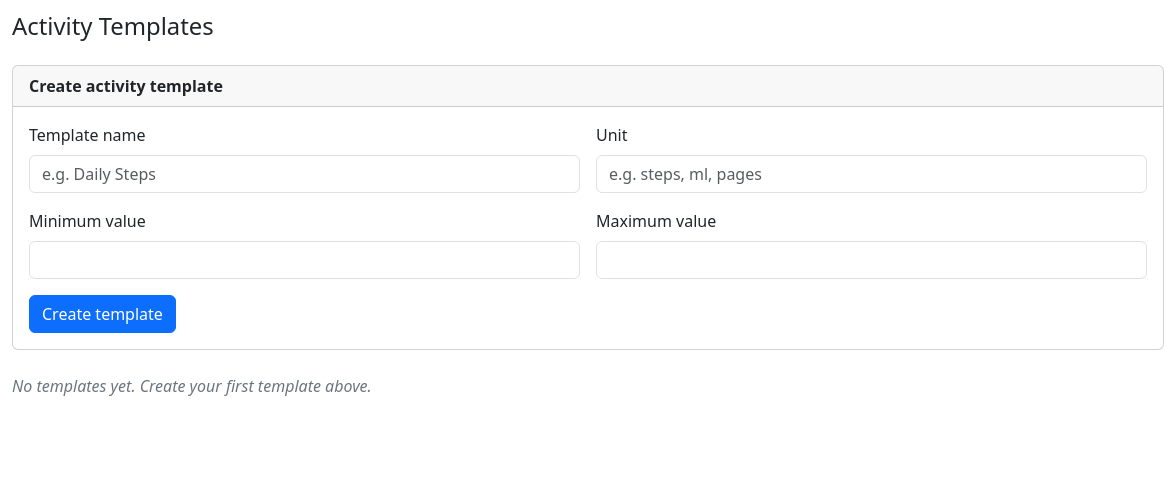
Test case: F-02 Activity Template UI › TEST-UI-03: Program Manager view › displays error message when minValue >= maxValue
The width and height of the screenshot is (1164, 503).
Expected: the text "No templates yet. Create your first template above." is shown, [12,375,372,397]
Type "Invalid Range" into the field labelled "Template name" at (304, 174), box [29,155,580,193]
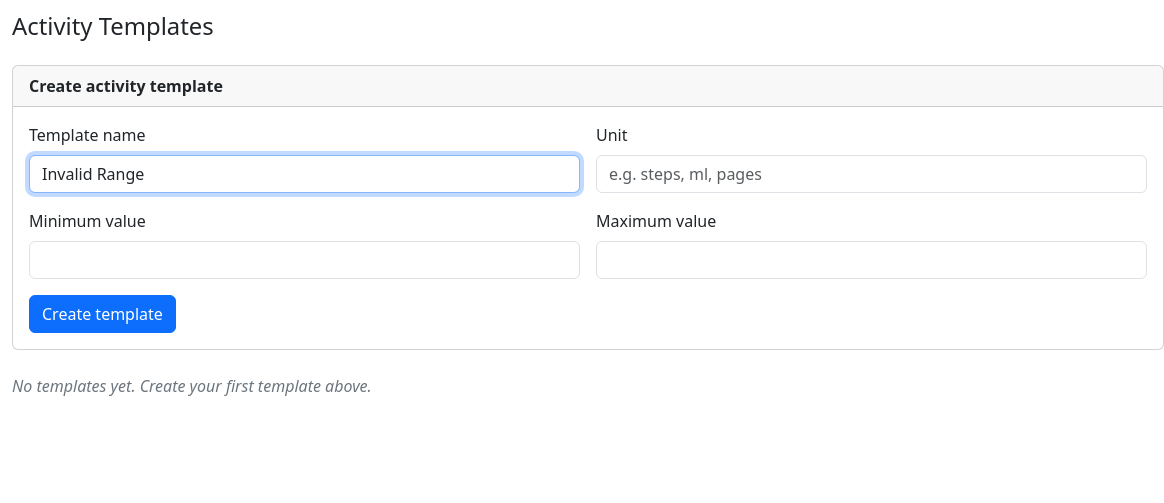
Type "count" into the field labelled "Unit" at (872, 174), box [596,155,1147,193]
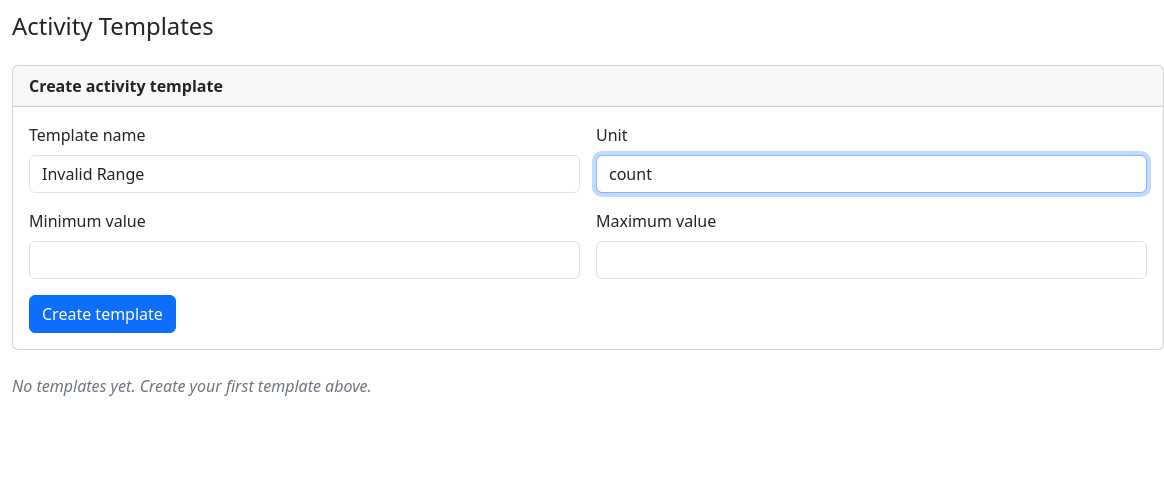
Type "100" into the number field labelled "Minimum value" at (304, 260), box [29,241,580,279]
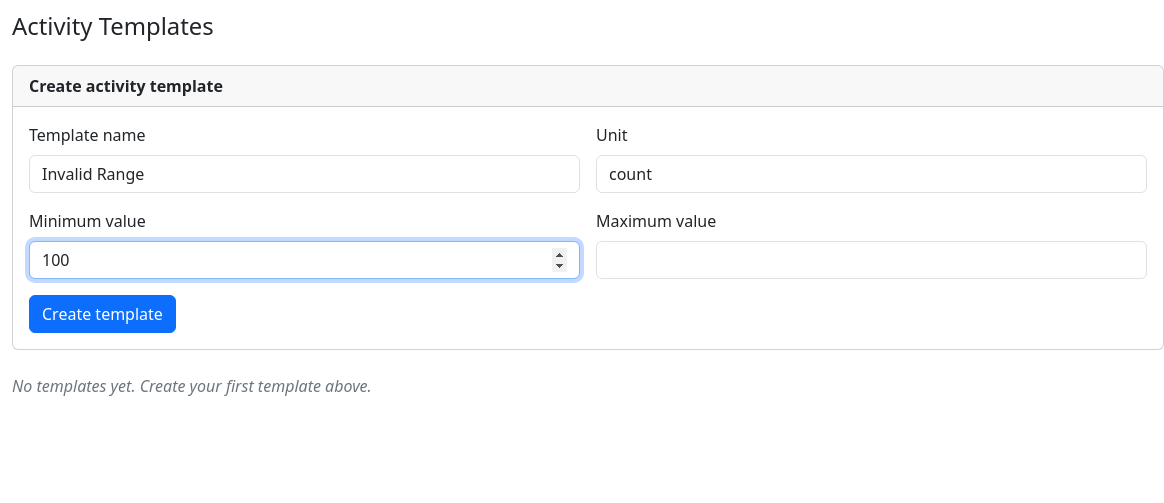
Type "50" into the number field labelled "Maximum value" at (872, 260), box [596,241,1147,279]
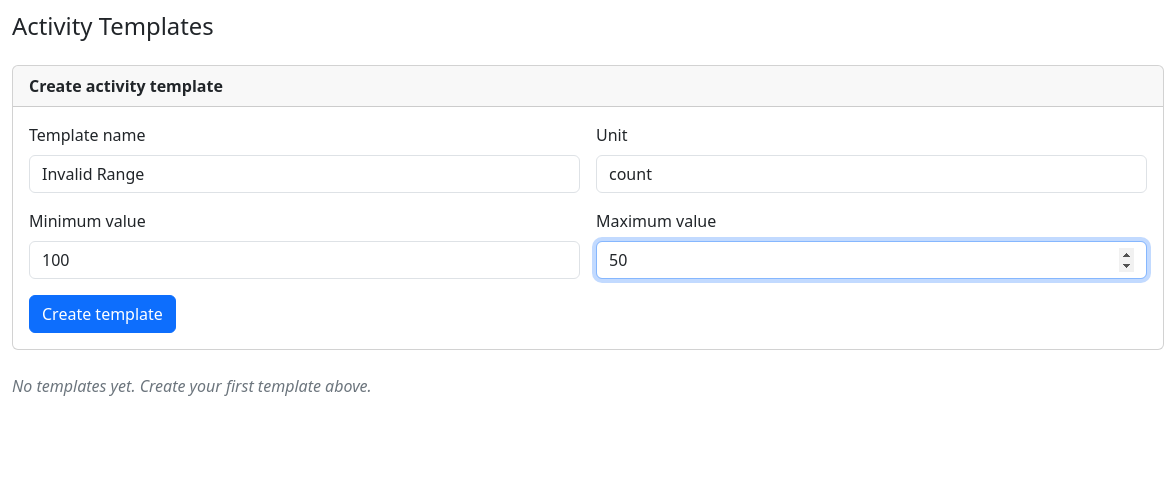
Click the button "Create template" at (102, 314), box [29,295,176,333]
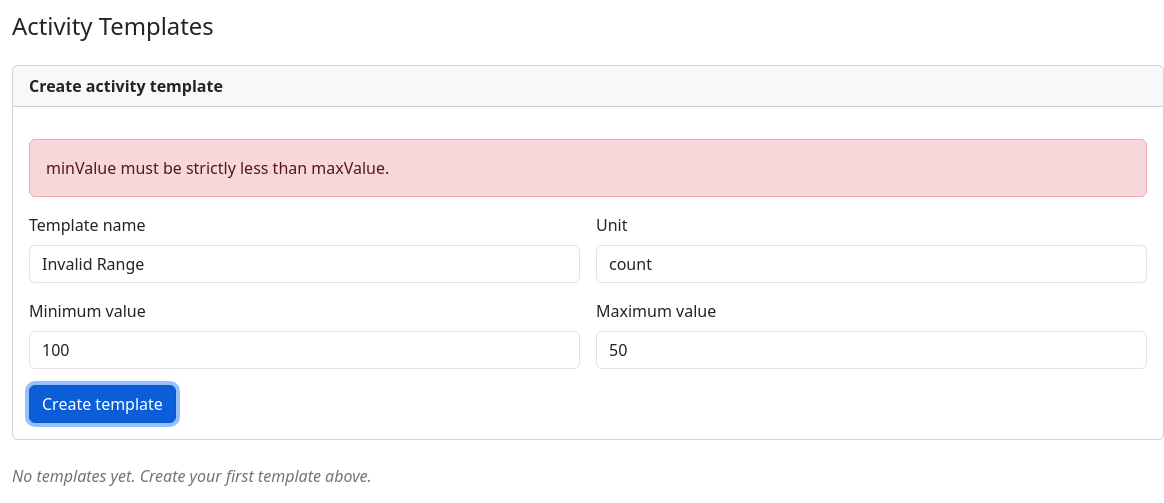
Now the message reads "minValue must be strictly less than maxValue.", box [46,157,389,179]
